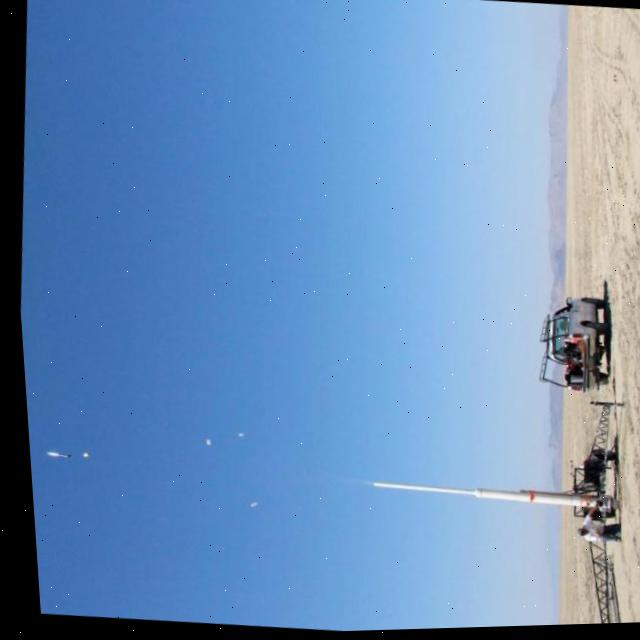missile: (340, 455, 623, 532)
